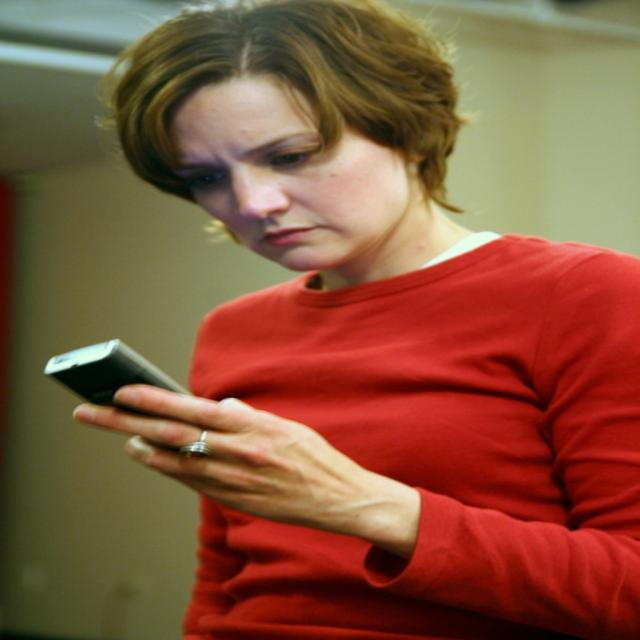Mobile-phone: (38, 338, 194, 411)
